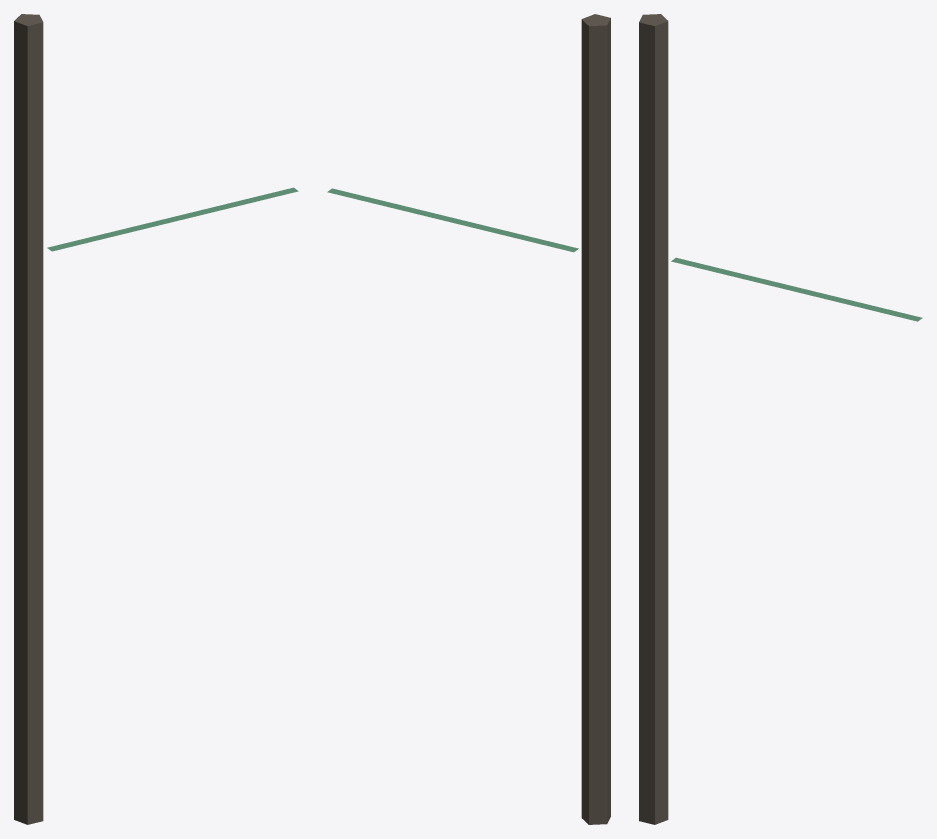
Rendered from banner.glb.
The picture shows the model from 3 angles, left to right: view 1: azimuth 30°, elevation 25°; view 2: azimuth 150°, elevation 25°; view 3: azimuth 330°, elevation 25°; orthographic projection.
Parts seen in each view (by area): view 1: banner; view 2: banner; view 3: banner.
Boxes of the visible parts, x1,y1,x2,y2 form: banner: [14, 14, 298, 824]; banner: [327, 14, 610, 824]; banner: [639, 14, 922, 824].
Size of the model in its own units: 0.6235 by 1.7 by 0.0543.
